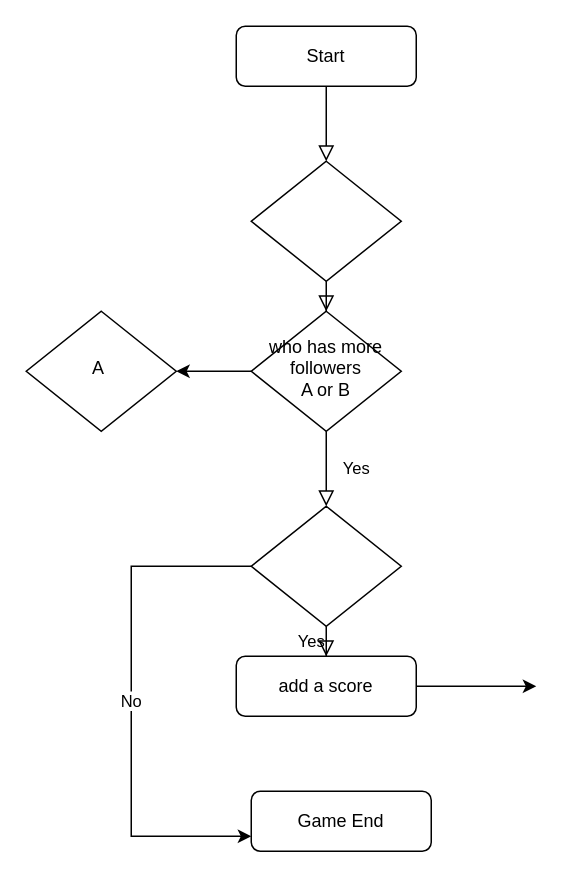
The diagram is 575 pixels wide and 878 high, and some of its shapes have lost their labels. Each missing label, with the box of its shape:
correct answer: (250, 505, 401, 626)
Import data: (250, 160, 401, 281)
